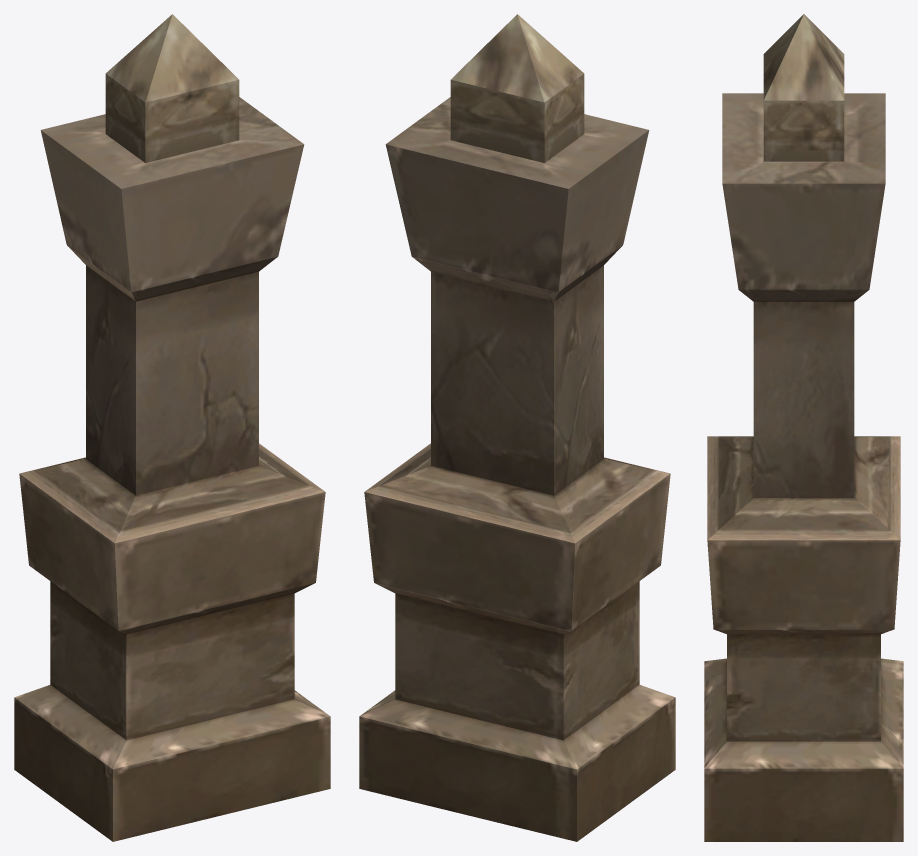
File: blsd4_lizhu_b.FBX
The picture shows the model from 3 angles, left to right: view 1: azimuth 30°, elevation 25°; view 2: azimuth 150°, elevation 25°; view 3: azimuth 270°, elevation 25°; orthographic projection.
Visible parts, largest first — view 1: blsd4_lizhu_b_001; view 2: blsd4_lizhu_b_001; view 3: blsd4_lizhu_b_001.
Boxes of the visible parts, x1,y1,x2,y2 form: blsd4_lizhu_b_001: (14,14,330,841); blsd4_lizhu_b_001: (359,14,675,841); blsd4_lizhu_b_001: (704,14,903,841).
Size of the model in its own units: 69.27 by 233 by 54.34.
